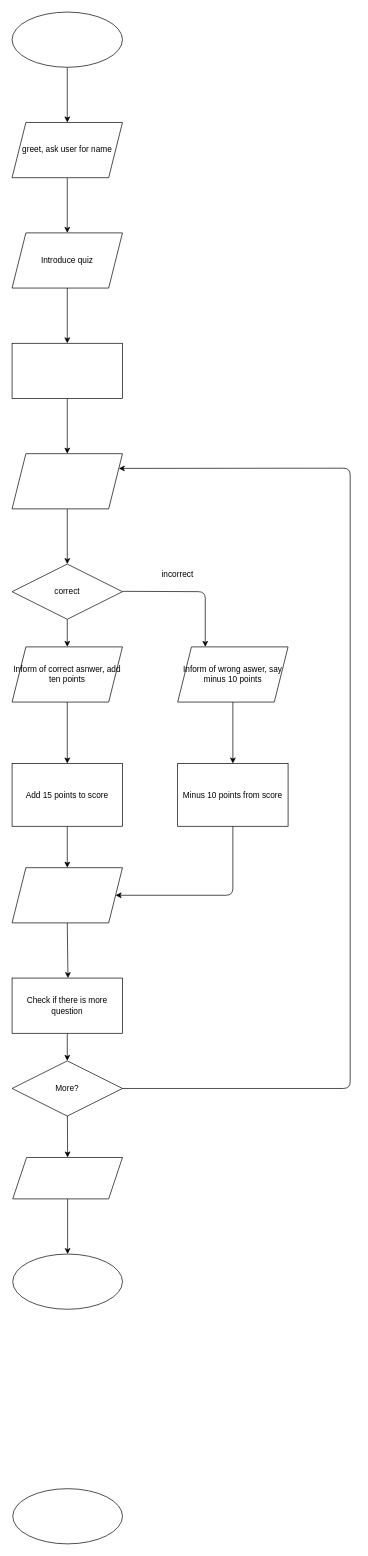
Image size: 368x1556. Some labels were removed from this diagram. Here are the shapes that lost their labels. From the top down, the box of each, then its label:
(11, 11, 122, 67): Start
(11, 343, 122, 398): Set score = 0
(11, 453, 122, 509): Ask question
(11, 867, 122, 923): Ask next question
(12, 1157, 122, 1199): Inform of final score
